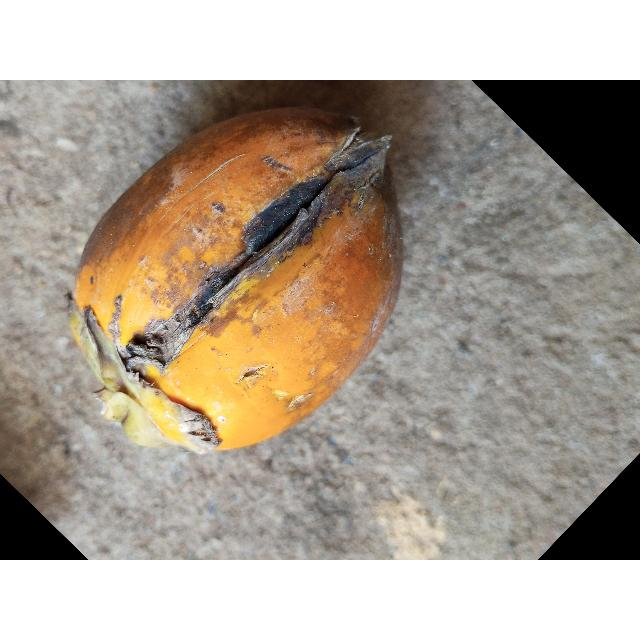damaged: (70, 108, 402, 453)
